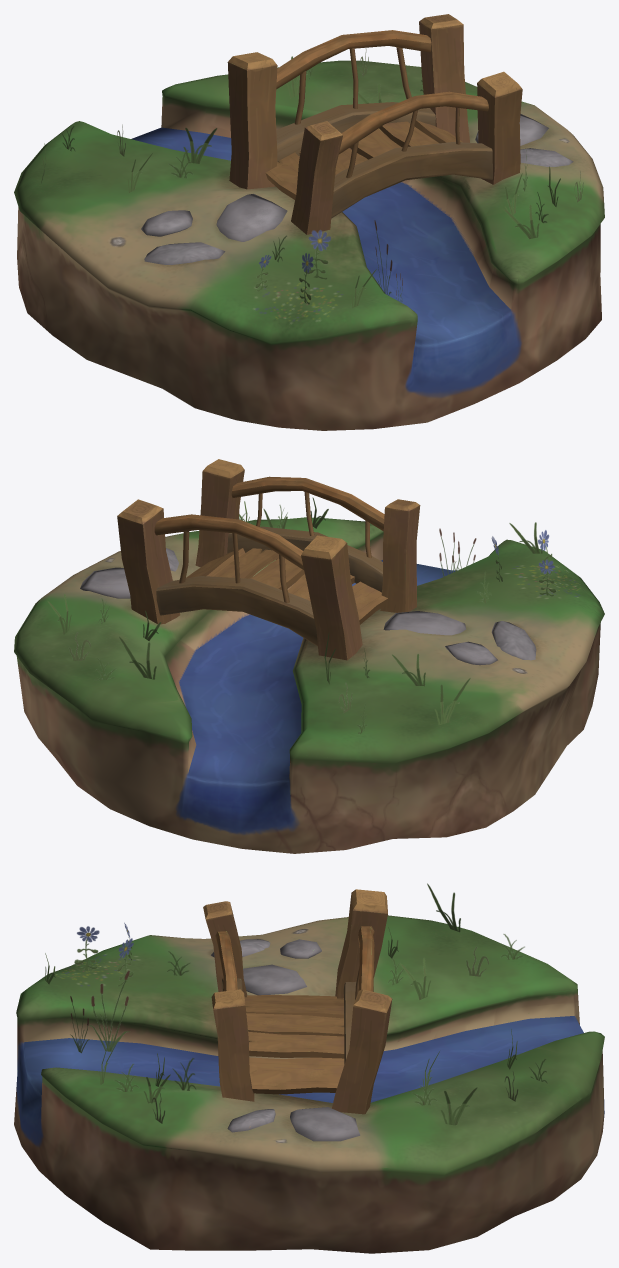
The model's file is stylized_bridge.glb.
3 views of the same model, one above another, from view 1: azimuth 30°, elevation 25°; view 2: azimuth 150°, elevation 25°; view 3: azimuth 270°, elevation 25° (orthographic). The views are drawn at different scales.
Parts seen in each view (by area): view 1: Cylinder_30, Cube.002_34, Cube.007_32, Cube.001_33, Cube.003_35, Cube.004_54, Cube.017_42, Cube.006_31, Cube.016_41, Icosphere.001_49, Icosphere.004_52, Icosphere.002_50 (+5 smaller); view 2: Cylinder_30, Cube.006_31, Cube.002_34, Cube.003_35, Cube.001_33, Cube.004_54, Cube.017_42, Cube.016_41, Cube.007_32, Icosphere.001_49, Icosphere.004_52, Icosphere.003_51 (+5 smaller); view 3: Cylinder_30, Cube.003_35, Cube.004_54, Cube.012_39, Cube.002_34, Cube.011_38, Cube.009_36, Icosphere.003_51, Cube.001_33, Icosphere.001_49, Cube.010_37, Cube.017_42 (+7 smaller).
Part boxes in pixels (box(x1,y1,x2,y2)): Cylinder_30: box(14, 60, 604, 430); Cube.002_34: box(227, 52, 277, 189); Cube.007_32: box(331, 142, 492, 218); Cube.001_33: box(291, 121, 343, 234); Cube.003_35: box(419, 14, 469, 142); Cube.004_54: box(477, 71, 522, 184); Cube.017_42: box(276, 30, 431, 89); Cube.006_31: box(276, 102, 435, 161); Cube.016_41: box(339, 91, 488, 154); Icosphere.001_49: box(216, 194, 287, 241); Icosphere.004_52: box(144, 242, 225, 264); Icosphere.002_50: box(141, 210, 192, 236); Cylinder_30: box(14, 517, 604, 853); Cube.006_31: box(156, 576, 317, 646); Cube.002_34: box(301, 535, 362, 660); Cube.003_35: box(117, 499, 180, 624); Cube.001_33: box(380, 499, 420, 612); Cube.004_54: box(195, 459, 244, 567); Cube.017_42: box(154, 514, 303, 569); Cube.016_41: box(231, 476, 384, 531); Cube.007_32: box(227, 526, 382, 592); Icosphere.001_49: box(383, 611, 466, 635); Icosphere.004_52: box(491, 621, 536, 660); Icosphere.003_51: box(80, 567, 130, 598); Cylinder_30: box(14, 915, 604, 1253); Cube.003_35: box(332, 989, 392, 1114); Cube.004_54: box(211, 989, 254, 1101); Cube.012_39: box(249, 1057, 344, 1094); Cube.002_34: box(335, 889, 387, 998); Cube.011_38: box(248, 1031, 344, 1058); Cube.009_36: box(246, 1013, 344, 1036); Icosphere.003_51: box(290, 1107, 360, 1141); Cube.001_33: box(203, 901, 247, 997); Icosphere.001_49: box(243, 964, 306, 995); Cube.010_37: box(245, 1001, 343, 1018); Cube.017_42: box(358, 926, 374, 991).
Size of the model in its own units: 1.78 by 0.816 by 1.83.
Materials: 3 (3 with a texture image).
